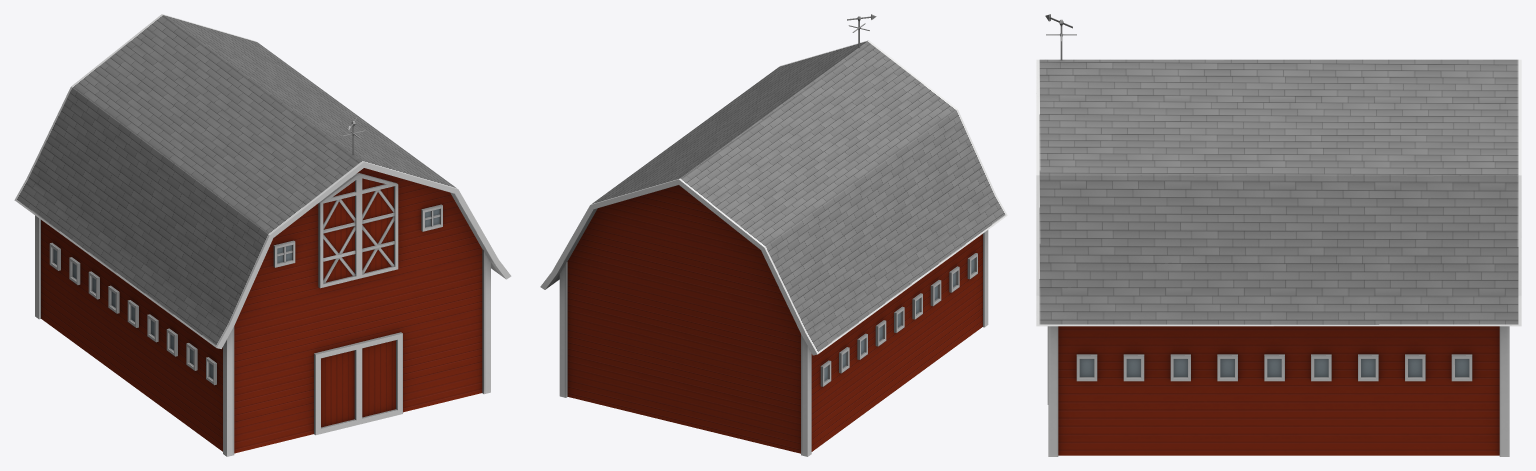
File: Barn.obj
The picture shows the model from 3 angles, left to right: view 1: azimuth 30°, elevation 25°; view 2: azimuth 150°, elevation 25°; view 3: azimuth 270°, elevation 25°; orthographic projection. The views are drawn at different scales.
Parts seen in each view (by area): view 1: Barn_Mesh; view 2: Barn_Mesh; view 3: Barn_Mesh.
Boxes of the visible parts, bbox=[...] form: Barn_Mesh: bbox=[14, 14, 511, 456]; Barn_Mesh: bbox=[540, 14, 1007, 456]; Barn_Mesh: bbox=[1036, 14, 1521, 456].
Size of the model in its own units: 8.67 by 8.43 by 10.3.
Materials: 1 (1 with a texture image).
